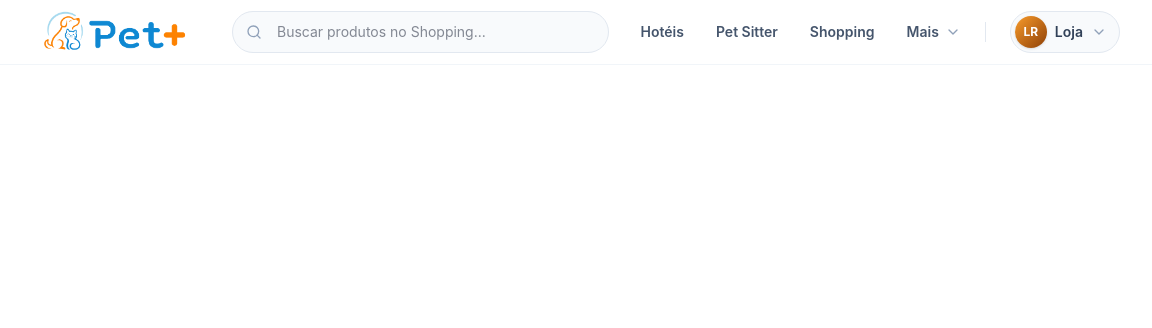
Test: parceiro recusado tem atalho para corrigir o cadastro (G06)
This screenshot has width=1152, height=328.
Click the button with aria-label "Menu da conta de Loja Recusada" at {"x": 1065, "y": 32}, box [1010,11,1120,53]
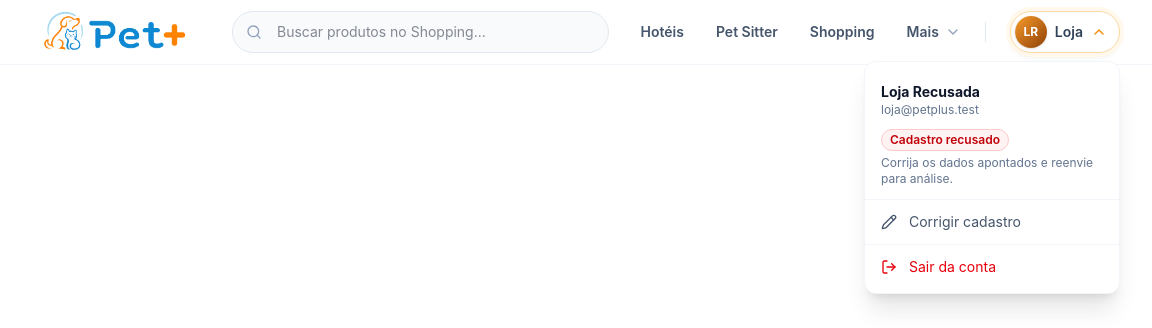
Result: the text "Cadastro recusado" is shown at [881,129,1009,151]
